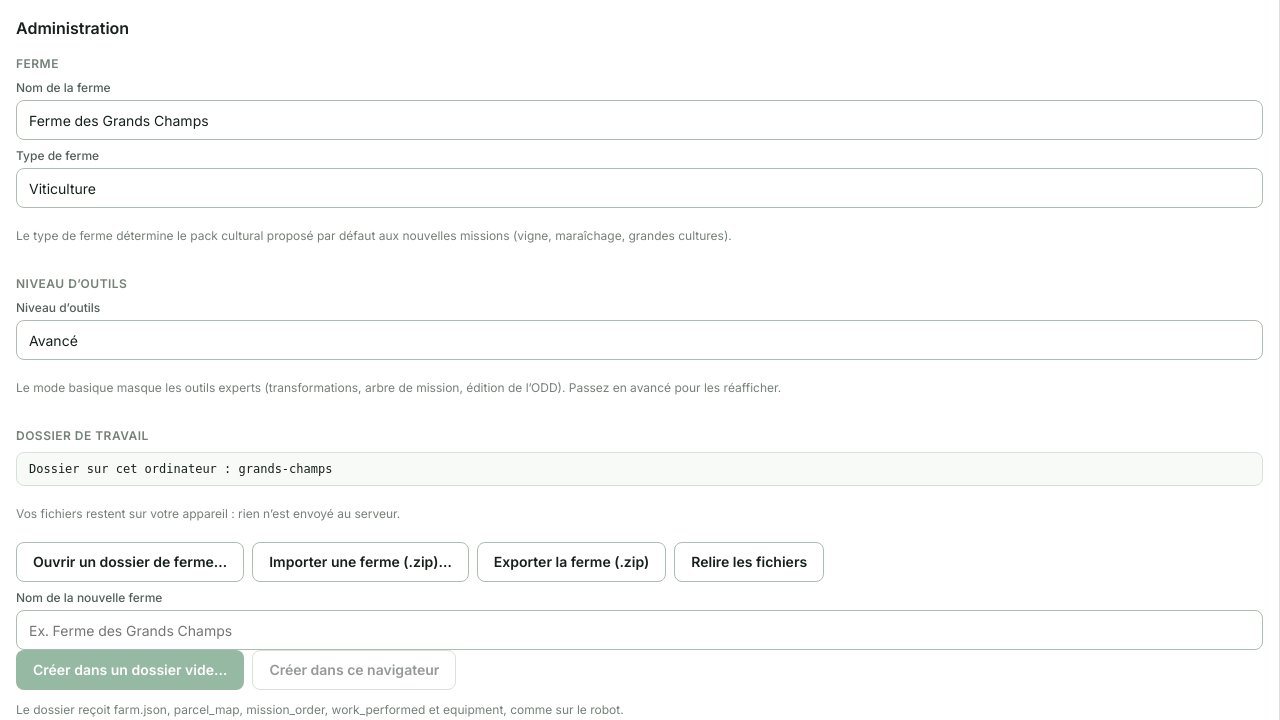
Test: administration saves through the farm API › saves a renamed farm on blur, and stays quiet when nothing changed
Replace the text in the field labelled "Nom de la ferme" with "Ferme du Coteau": (640, 120) [17,101,1262,139]
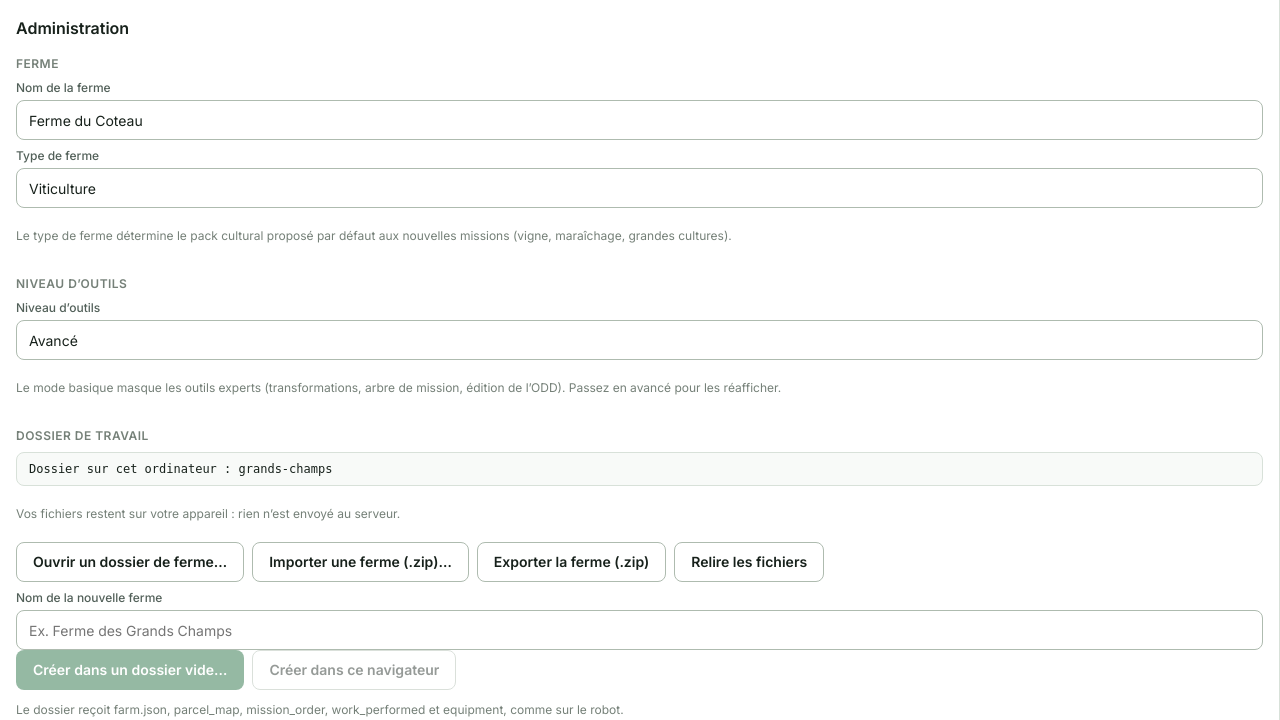
Leave the field labelled "Nom de la ferme", box [17,101,1262,139]
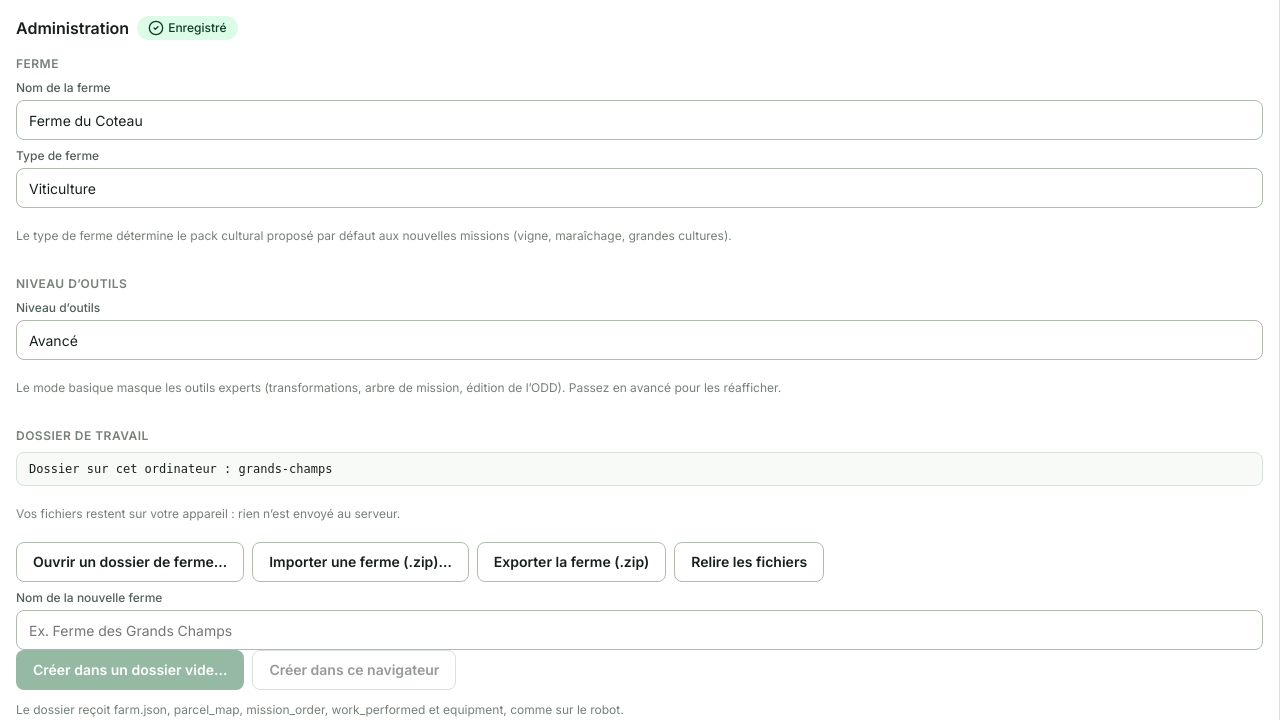
Expected: the text "Enregistré" is shown, [137,16,238,40]
